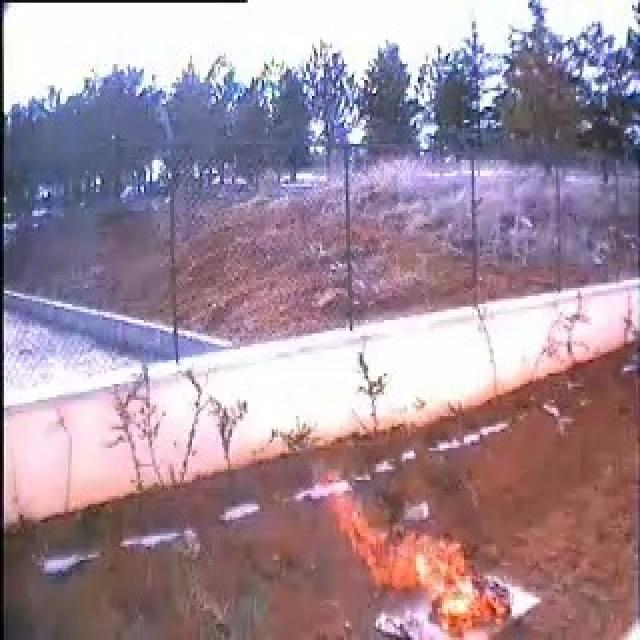fire: (352, 543, 503, 625)
